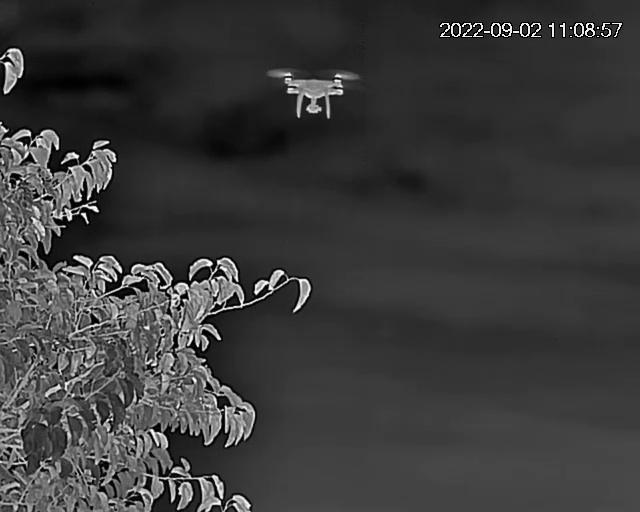DJI-Phantom: (266, 67, 359, 120)
